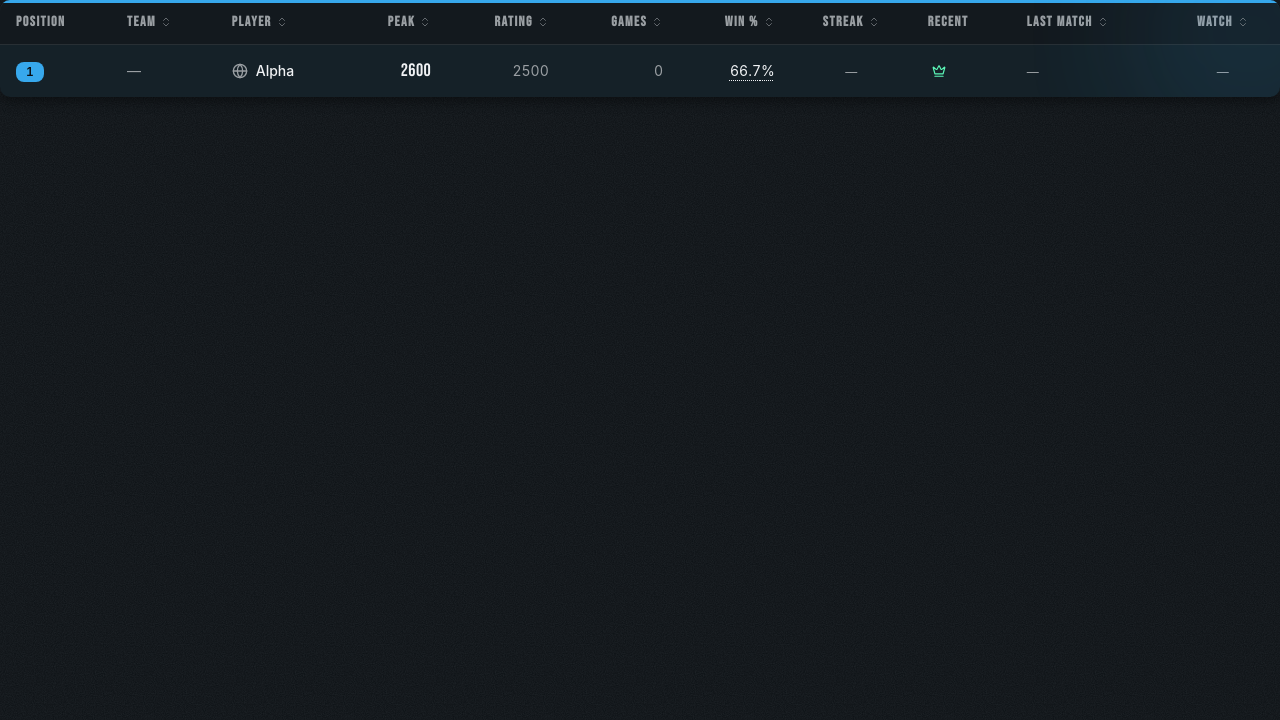
Test: StandingsTable — recent matchups (#339) › opens the civ-matchup card on tap, showing both civs and the map
Step 1. Click the button named "Won as Franks vs Mayans" → (939, 71), box x1=928 y1=60 x2=950 y2=82
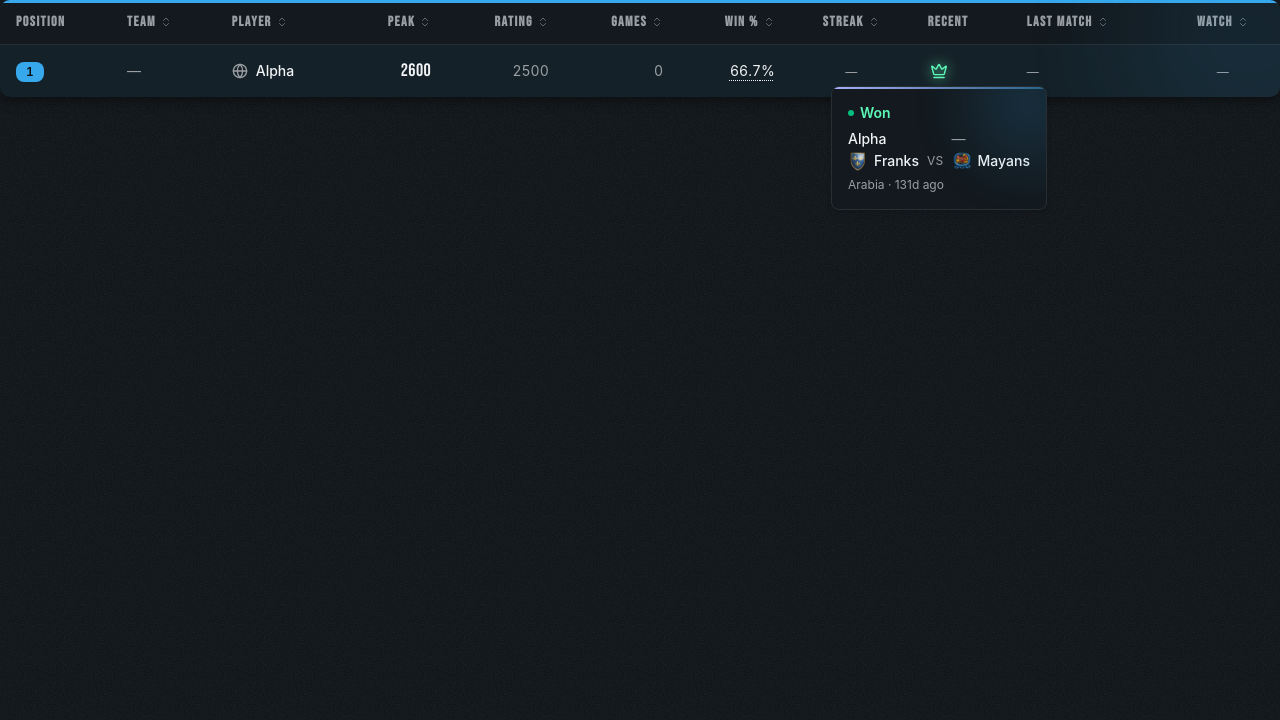
Result: the text "Mayans" is shown at x1=978 y1=151 x2=1030 y2=171
Result: the text "Franks" is shown at x1=874 y1=151 x2=919 y2=171
Result: the text "Arabia · 131d ago" is shown at x1=848 y1=177 x2=944 y2=192
